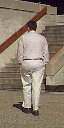person: (13, 17, 47, 122)
